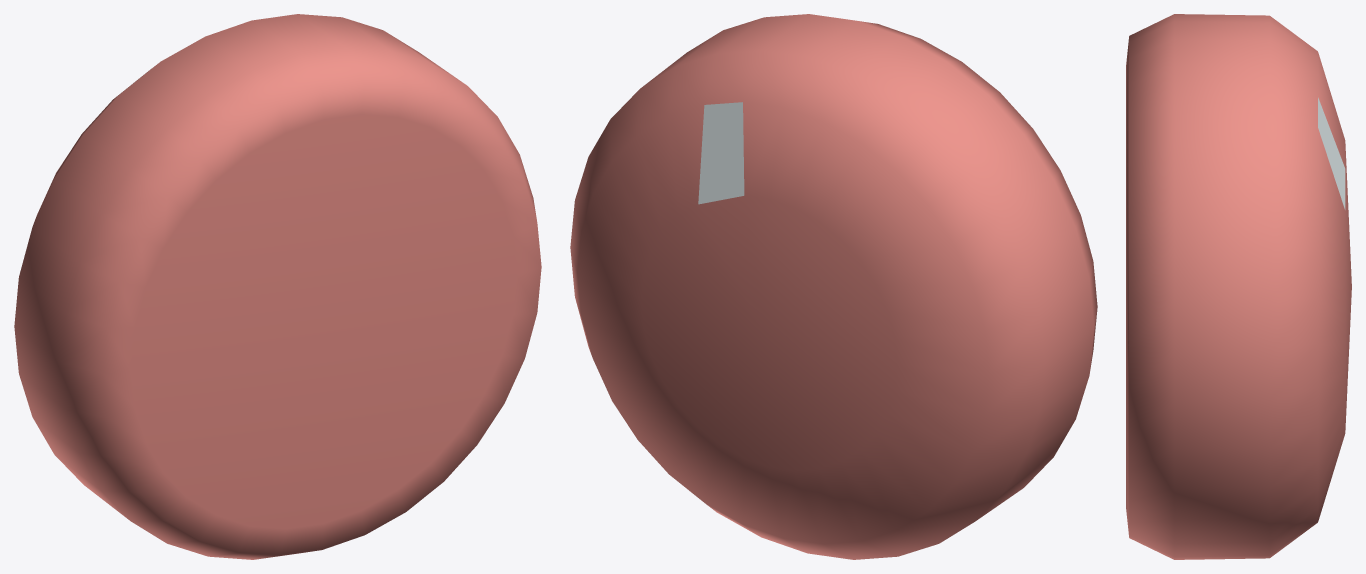
Rendered from xd_reloj_hull.fbx.
3 views of the same model, side by side, from view 1: azimuth 30°, elevation 25°; view 2: azimuth 150°, elevation 25°; view 3: azimuth 270°, elevation 25° (orthographic).
Visible parts, largest first — view 1: Convex Hull; view 2: Convex Hull; view 3: Convex Hull.
Part boxes in pixels (box(x1,y1,x2,y2)): Convex Hull: box(14, 14, 541, 559); Convex Hull: box(570, 14, 1097, 559); Convex Hull: box(1126, 14, 1351, 559).
Size of the model in its own units: 1.79 by 0.7421 by 1.79.
